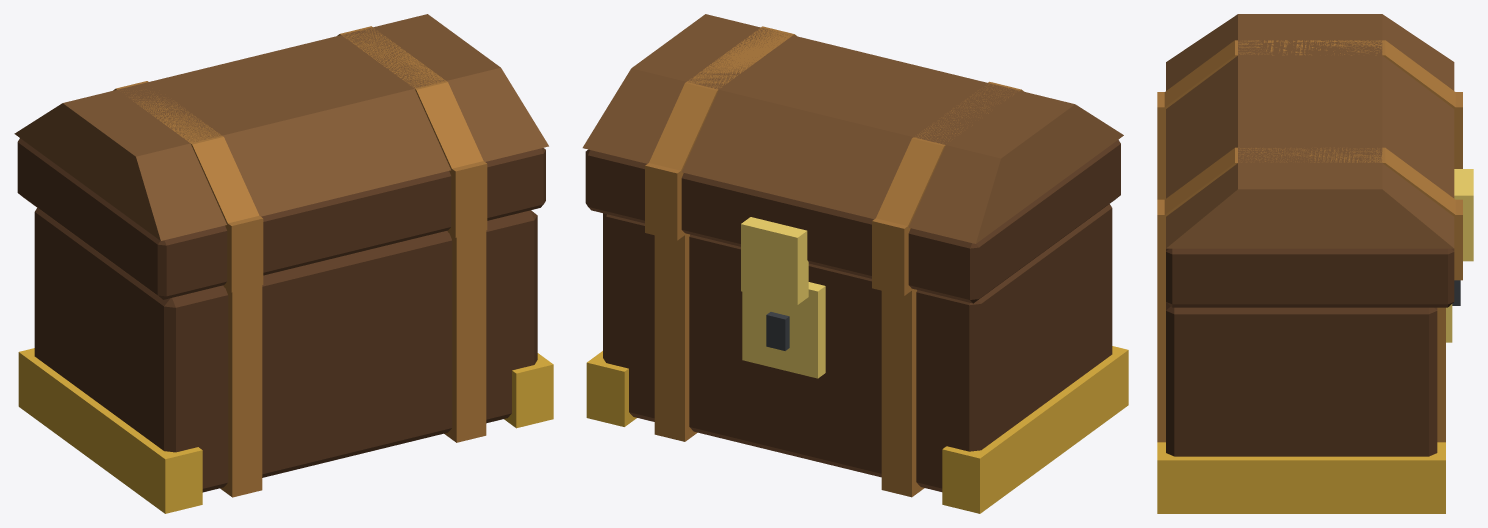
The model's file is PR_ArmoryChest.fbx.
3 views of the same model, side by side, from view 1: azimuth 30°, elevation 25°; view 2: azimuth 150°, elevation 25°; view 3: azimuth 270°, elevation 25° (orthographic). The views are drawn at different scales.
Parts seen in each view (by area): view 1: Body, Lid; view 2: Lid, Body; view 3: Lid, Body.
Boxes of the visible parts, x1,y1,x2,y2 form: Body: (18, 208, 553, 513); Lid: (14, 14, 548, 299); Lid: (582, 14, 1123, 304); Body: (586, 204, 1128, 513); Lid: (1157, 14, 1473, 307); Body: (1157, 172, 1460, 513).
Bounding box in the file's own units: 1.04 × 0.745 × 0.88.
